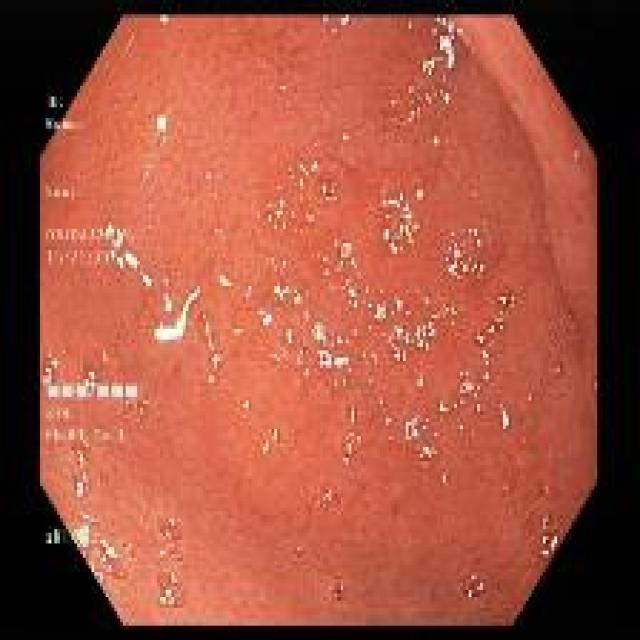ulcerative-colitis: (40, 16, 599, 624)
